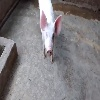heo: (37, 8, 62, 66)
